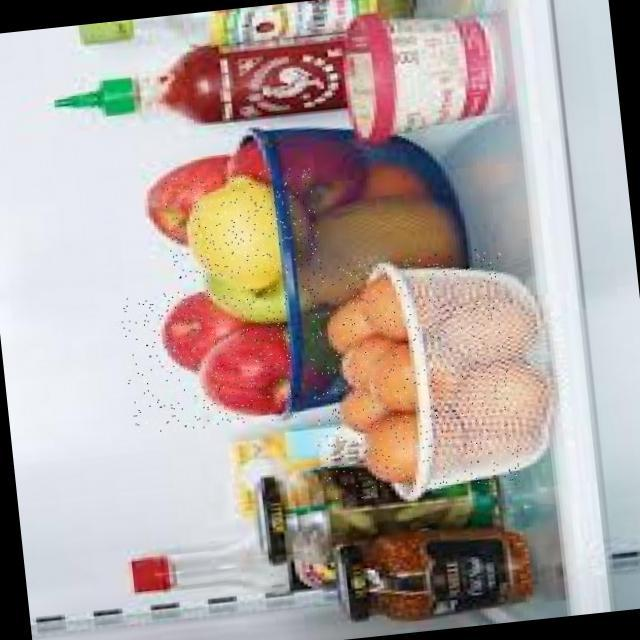Huevos: (299, 245, 525, 501)
